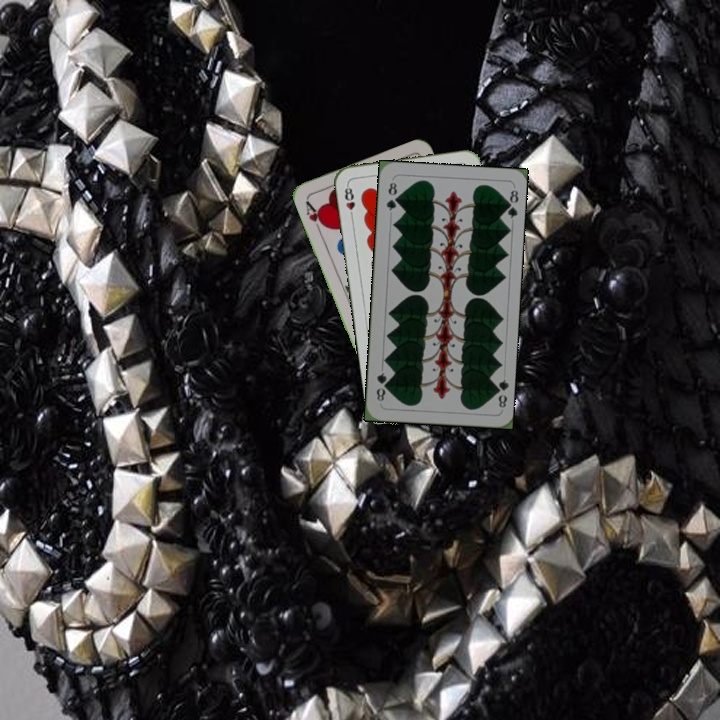G8: (490, 375, 510, 410), (382, 178, 400, 213)
H8: (341, 181, 357, 221)
HA: (301, 196, 328, 235)
